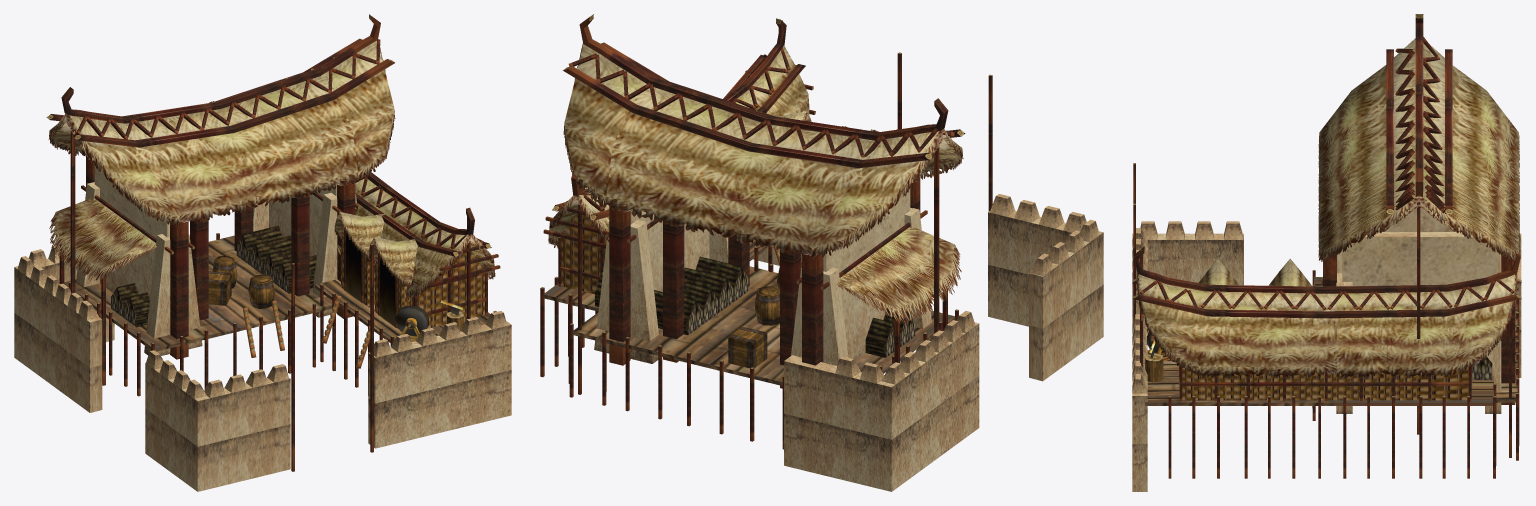
The model's file is arsenal.dae.
The picture shows the model from 3 angles, left to right: view 1: azimuth 30°, elevation 25°; view 2: azimuth 150°, elevation 25°; view 3: azimuth 270°, elevation 25°; orthographic projection. The views are drawn at different scales.
Visible parts, largest first — view 1: arsenal; view 2: arsenal; view 3: arsenal.
Boxes of the visible parts, left/top/right/bottom form: arsenal: left=14, top=14, right=511, bottom=491; arsenal: left=540, top=14, right=1103, bottom=491; arsenal: left=1132, top=14, right=1521, bottom=491.
Size of the model in its own units: 23.89 by 23.85 by 21.93.
